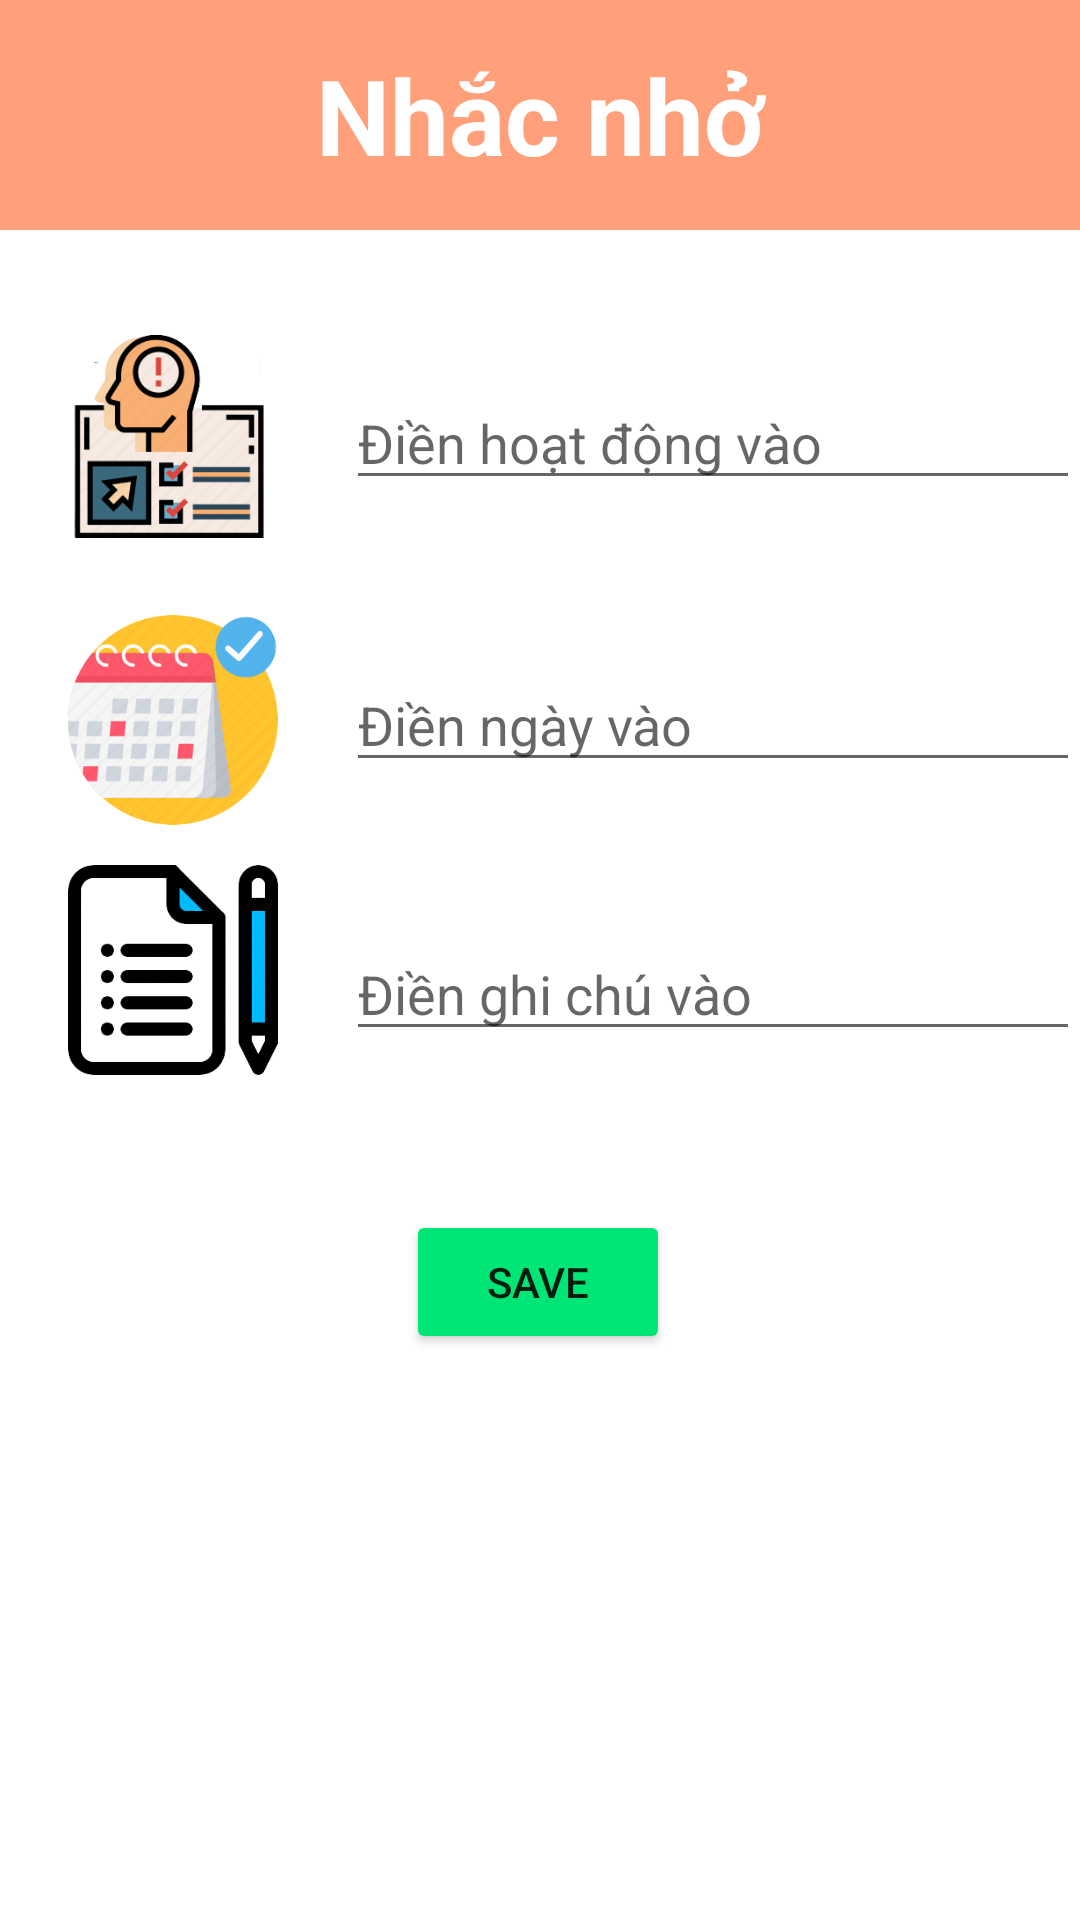

Named icons in this screenshot (1080 x 1920) and their centers, point (x, y):
actions: point (169, 436)
day: point (173, 720)
notes: point (173, 970)
